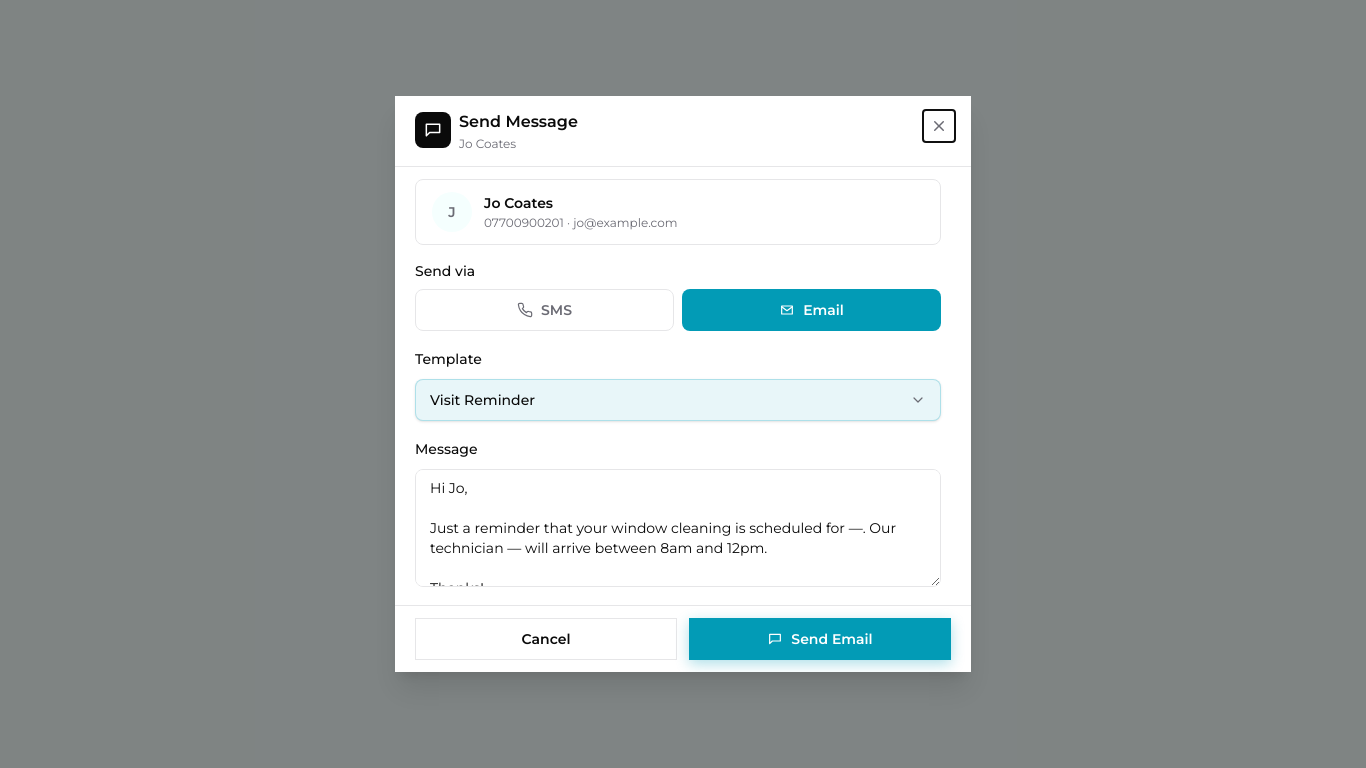
Test: SendPropertyMessageModal channels (Wave 2B-2) › shows the server message for any other failure
The image size is (1366, 768).
Step 1. Click the button "Send Email" → (820, 639), box [689,618,951,660]
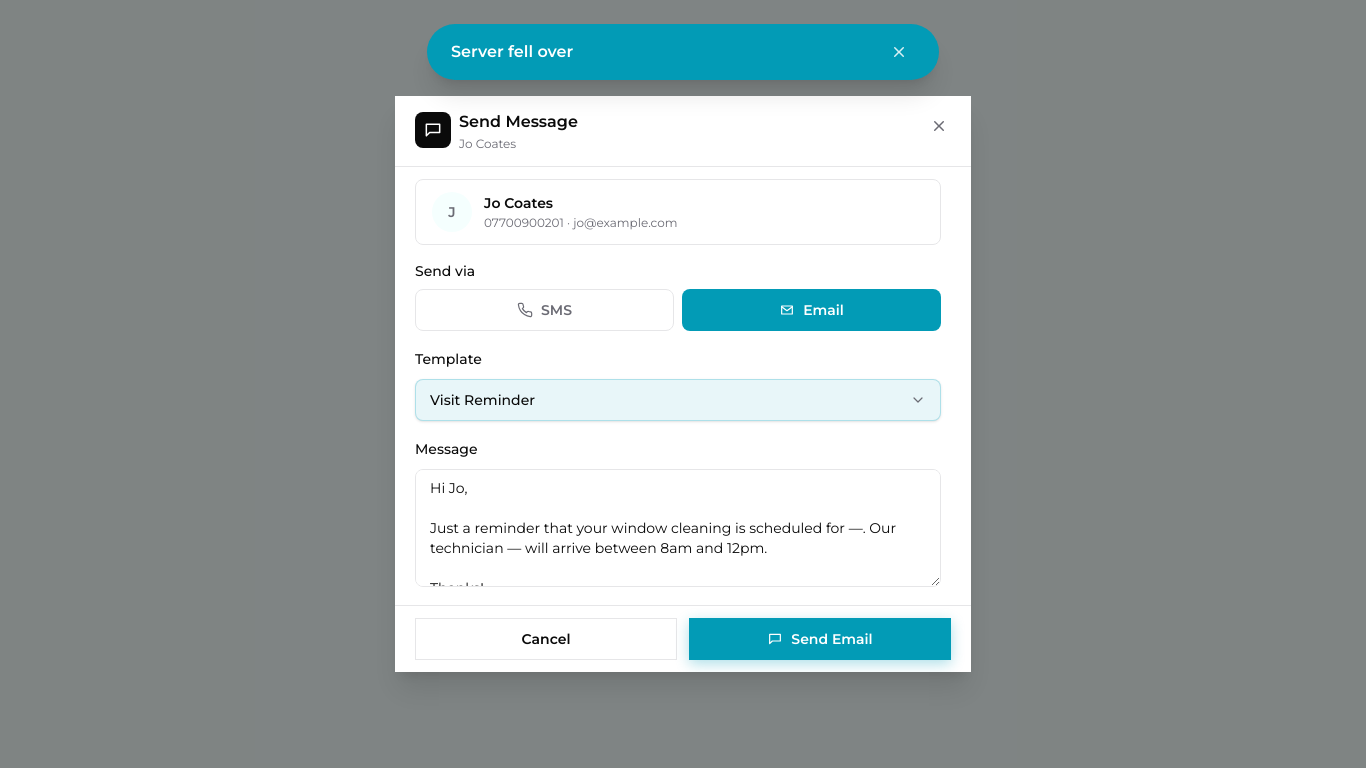
Now the text "Server fell over" is shown, box [451,40,573,64]
